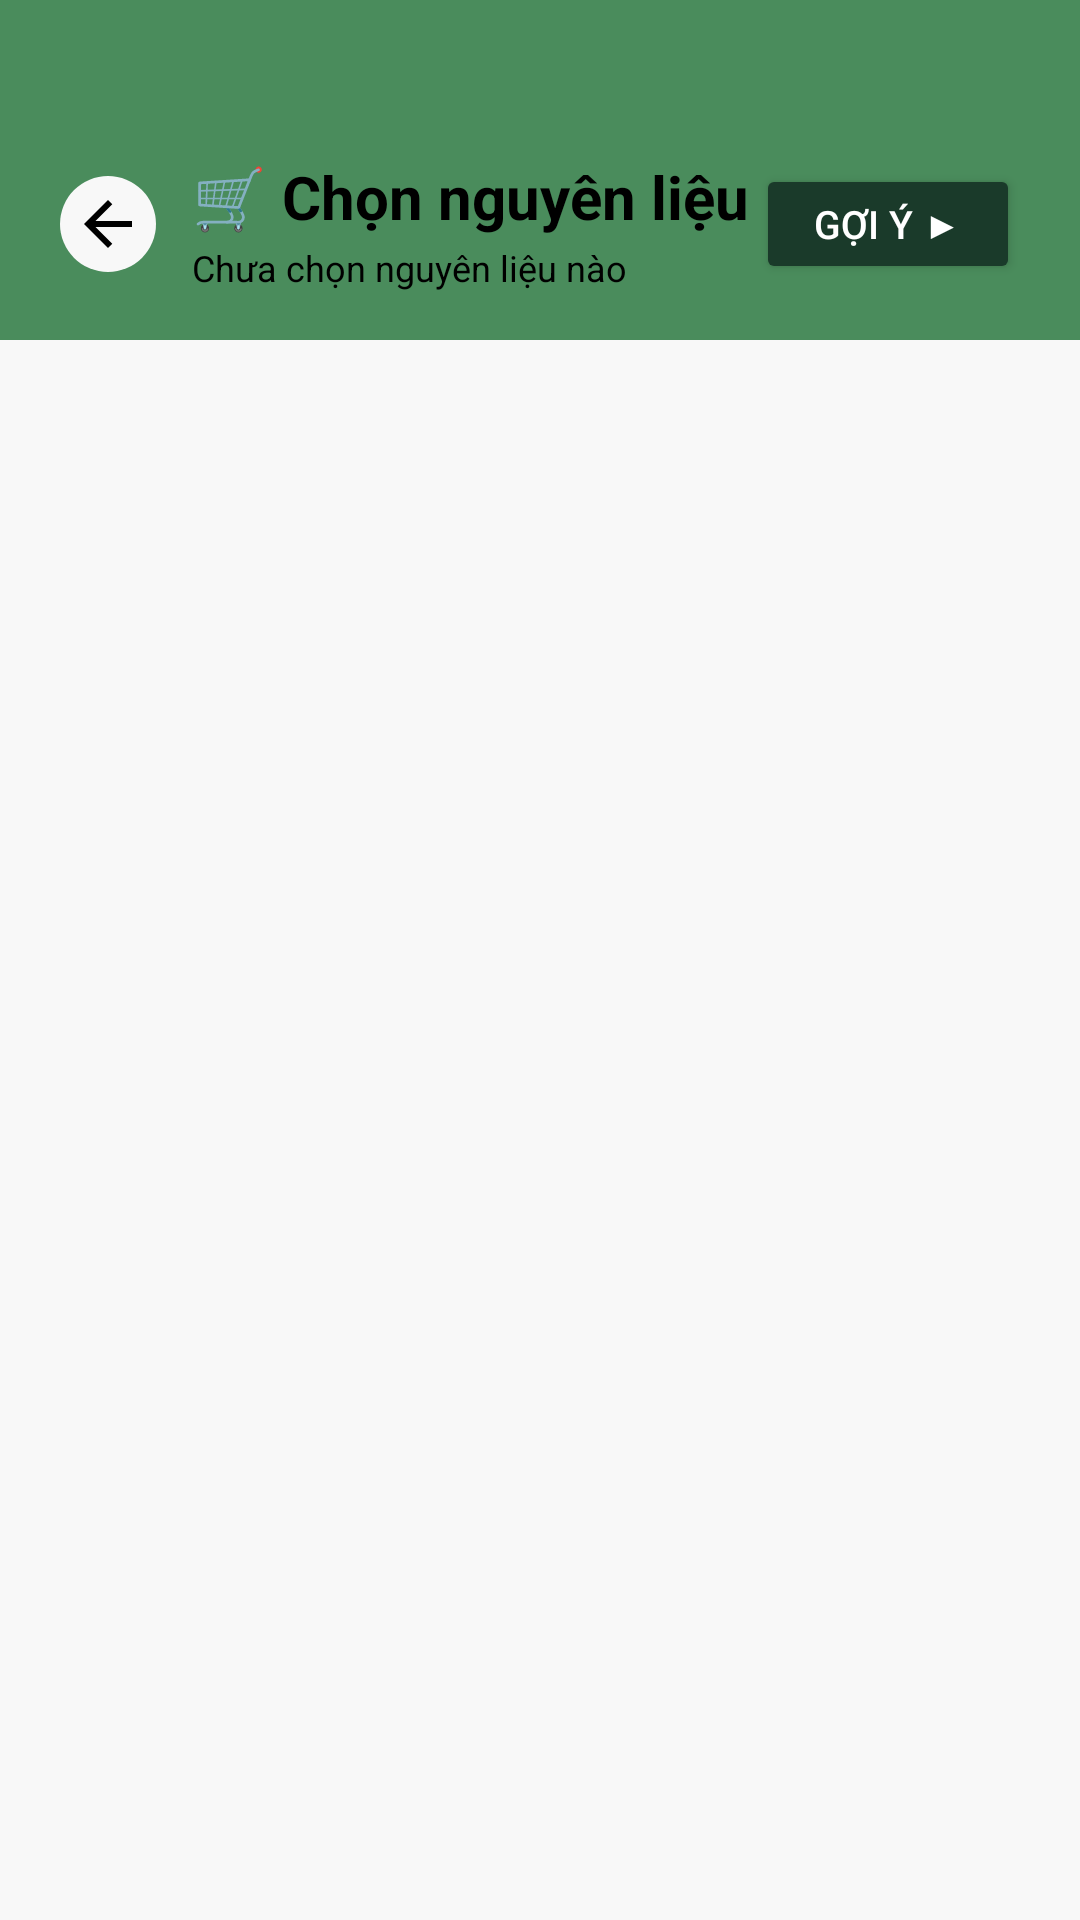

Named icons in this screenshot (1080 × 1920) and their centers, (x,y):
arrow back: (108,224)
